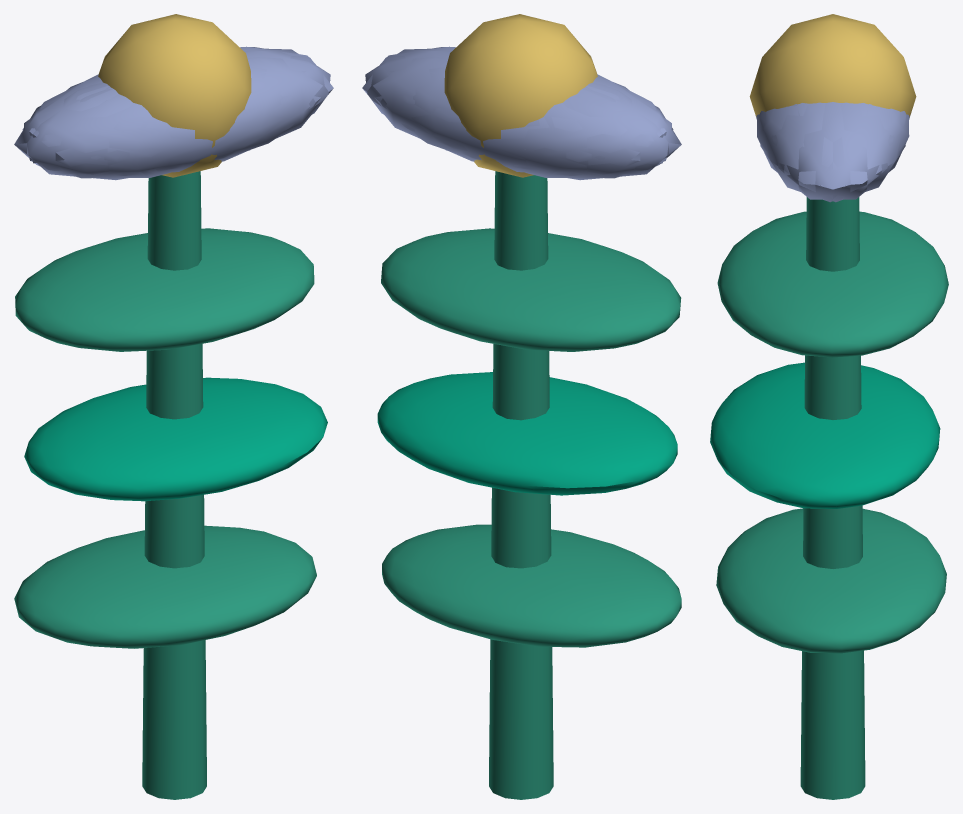
The model's file is sterculia-foetida.glb.
The picture shows the model from 3 angles, left to right: view 1: azimuth 30°, elevation 25°; view 2: azimuth 150°, elevation 25°; view 3: azimuth 270°, elevation 25°; orthographic projection.
Parts seen in each view (by area): view 1: leaf1, leaf2, leaf0, stem, center, petal6, petal2, petal1, petal5, petal7, petal0; view 2: leaf2, leaf0, leaf1, stem, center, petal3, petal7, petal8, petal4, petal2, petal0; view 3: leaf2, leaf1, leaf0, stem, center, petal0, petal4, petal5, petal1, petal8.
Part boxes in pixels (x1,y1,x2,y2): leaf1: (24, 377, 327, 501); leaf2: (15, 228, 314, 351); leaf0: (14, 525, 316, 648); stem: (142, 171, 206, 799); center: (98, 14, 251, 177); petal6: (32, 88, 237, 178); petal2: (24, 82, 181, 180); petal1: (104, 66, 315, 176); petal5: (170, 56, 333, 167); petal7: (14, 77, 118, 170); petal0: (244, 48, 330, 150); leaf2: (381, 228, 681, 351); leaf0: (382, 524, 681, 647); leaf1: (377, 372, 677, 495); stem: (489, 171, 553, 799); center: (444, 14, 597, 177); petal3: (458, 88, 663, 178); petal7: (514, 82, 671, 180); petal8: (380, 66, 591, 176); petal4: (362, 56, 525, 167); petal2: (577, 77, 681, 170); petal0: (365, 48, 451, 150); leaf2: (717, 211, 948, 357); leaf1: (710, 362, 940, 508); leaf0: (716, 508, 946, 653); stem: (800, 197, 865, 799); center: (749, 14, 916, 116); petal0: (771, 102, 894, 199); petal4: (820, 102, 905, 202); petal5: (760, 102, 845, 202); petal1: (757, 103, 808, 173); petal8: (857, 103, 909, 173).
Bounding box in the file's own units: 0.1541 × 0.3647 × 0.1032.
